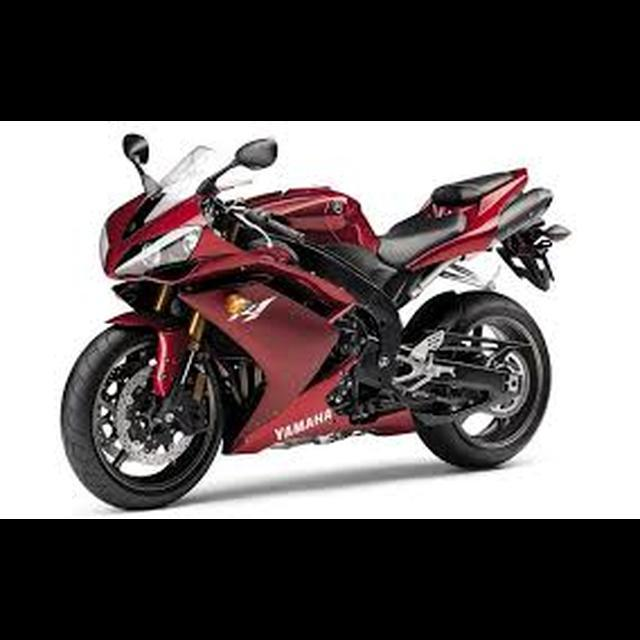motorcycle: (57, 125, 576, 513)
